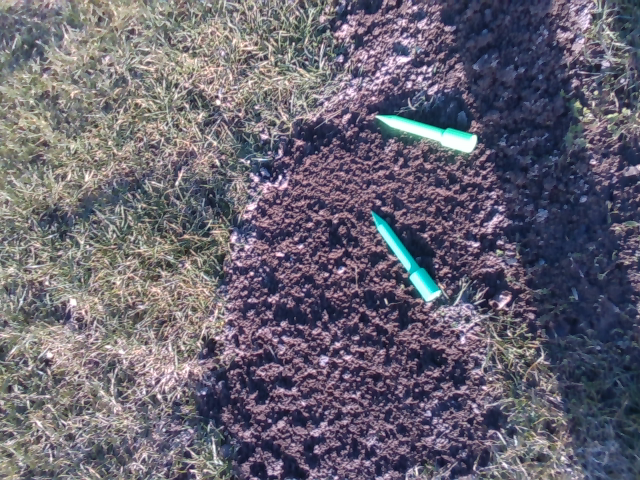Probe: (368, 207, 443, 306), (371, 109, 480, 154)
